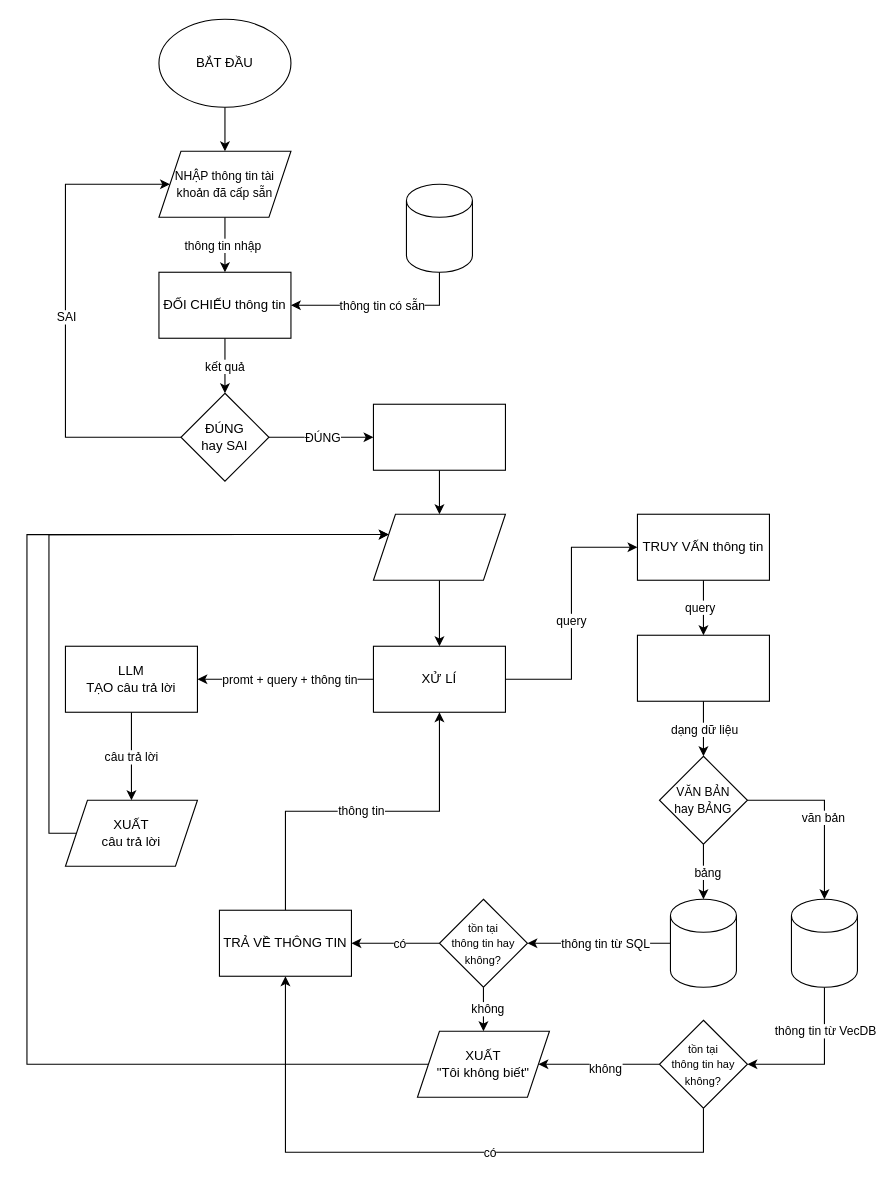
Some shapes in this 894 by 1180 pixel diagram are drawn without their labels. The shapes that lost their labels are listed below. From the top down, each one's box as (x1, y1, x2, y2) in pixels, then its label:
(405, 183, 472, 272): NoSQL
(372, 403, 505, 470): HIỆN giao diện phần mềm hệ thông chatbot
(372, 513, 505, 580): NHẬP promt + query
(636, 634, 769, 701): KIỂM TRA query
(669, 898, 736, 987): SQL
(790, 898, 857, 987): Vector Database
